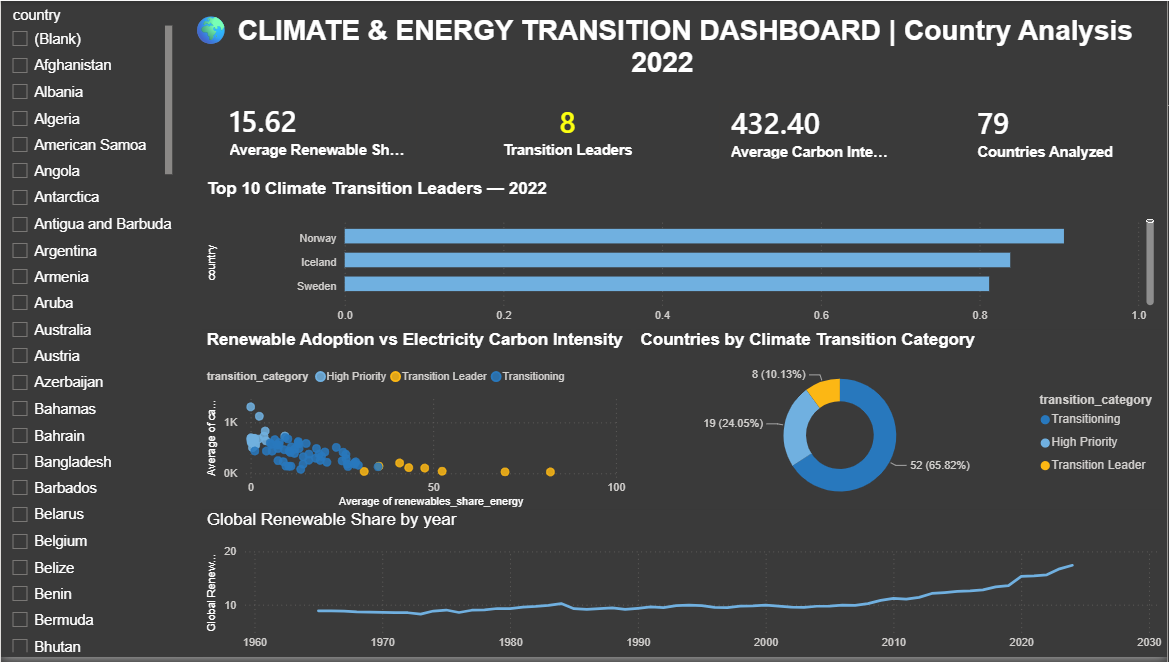

The dashboard page shown, as its layout file describes it:
{"tool":"powerbi","page":{"name":"Page 1","canvas":[1280,720],"ordinal":0},"visuals":[{"type":"shape","title":"🌍 CLIMATE & ENERGY TRANSITION DASHBOARD  | Country Analysis 2022 ","box":[182.5,9.6,1086.8,74.1],"z":1000},{"type":"clusteredBarChart","title":"Top 10 Climate Transition Leaders — 2022","fields":{"Category":["climate_transition_score.country"],"Y":["Max(climate_transition_score.transition_score)"]},"box":[220.9,194.9,1049.7,166],"z":3000},{"type":"donutChart","title":"Countries by Climate Transition Category","fields":{"Category":["climate_transition_score.transition_category"],"Y":["CountNonNull(climate_transition_score.country)"]},"box":[697.2,360.3,583,199.6],"z":4000},{"type":"cardVisual","fields":{"Data":["climate_transition_score.Countries Analyzed"]},"box":[1042.9,87.8,215.4,111.1],"z":6000},{"type":"cardVisual","title":"Transition Leaders","fields":{"Data":["climate_transition_score.Transition Leaders"]},"box":[509.1,87.8,226.4,107],"z":7000},{"type":"slicer","fields":{"Values":["Countries.country"]},"box":[0,1.4,192.9,718.6],"z":8000},{"type":"scatterChart","title":"Renewable Adoption vs Electricity Carbon Intensity","fields":{"X":["Avg(climate_transition_score.renewables_share_energy)"],"Y":["Avg(climate_transition_score.carbon_intensity_elec)"],"Series":["climate_transition_score.transition_category"],"Category":["climate_transition_score.country"]},"box":[221.4,360.3,470.3,199.4],"z":9000},{"type":"lineChart","fields":{"Category":["ClimateEnergy.year"],"Y":["ClimateEnergy.Global Renewable Share"]},"box":[221.4,558.6,1058.6,161.4],"z":10000},{"type":"cardVisual","fields":{"Data":["ClimateEnergy.Average Renewable Share"]},"box":[220.9,87.8,253.9,104.3],"z":10001},{"type":"cardVisual","fields":{"Data":["climate_transition_score.Average Carbon Intensity"]},"box":[771.2,93.3,238.8,98.8],"z":10002}]}

Visuals, with their boxes in screenshot pixels (x1, y1, x2, y2), scaled from the page's 1280x720 canvas onto the 1169x662 screenshot:
"🌍 CLIMATE & ENERGY TRANSITION DASHBOARD  | Country Analysis 2022 " shape: x1=167 y1=9 x2=1159 y2=77
"Top 10 Climate Transition Leaders — 2022" clusteredBarChart: x1=202 y1=179 x2=1160 y2=332
"Countries by Climate Transition Category" donutChart: x1=637 y1=331 x2=1168 y2=515
cardVisual - climate_transition_score.Countries Analyzed: x1=952 y1=81 x2=1149 y2=183
"Transition Leaders" cardVisual: x1=465 y1=81 x2=672 y2=179
slicer - Countries.country: x1=0 y1=1 x2=176 y2=661
"Renewable Adoption vs Electricity Carbon Intensity" scatterChart: x1=202 y1=331 x2=632 y2=515
lineChart - ClimateEnergy.year x ClimateEnergy.Global Renewable Share: x1=202 y1=514 x2=1168 y2=661
cardVisual - ClimateEnergy.Average Renewable Share: x1=202 y1=81 x2=434 y2=177
cardVisual - climate_transition_score.Average Carbon Intensity: x1=704 y1=86 x2=922 y2=177
